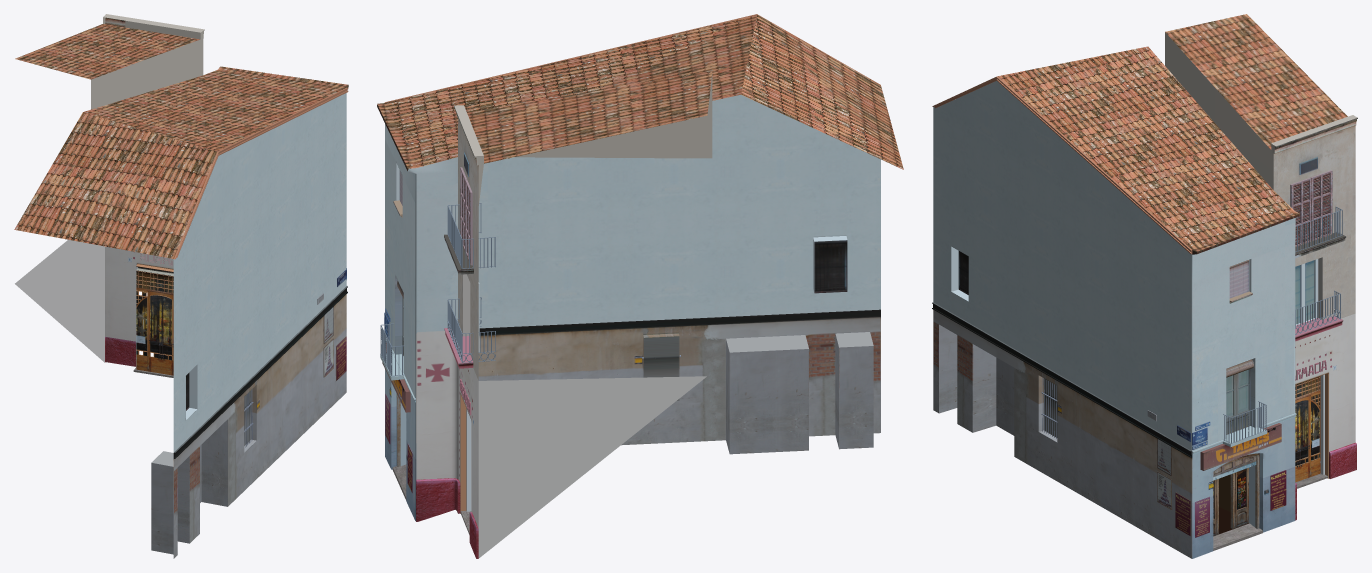
Rendered from farmacia.fbx.
3 views of the same model, side by side, from view 1: azimuth 30°, elevation 25°; view 2: azimuth 150°, elevation 25°; view 3: azimuth 270°, elevation 25° (orthographic). The views are drawn at different scales.
Visible parts, largest first — view 1: polySurface720, polySurface721; view 2: polySurface720; view 3: polySurface720, polySurface721, polySurface935.
Part boxes in pixels (<box>): polySurface720: <box>14,14,348,558</box>; polySurface721: <box>136,270,173,375</box>; polySurface720: <box>377,14,903,558</box>; polySurface720: <box>932,14,1357,558</box>; polySurface721: <box>1295,376,1320,482</box>; polySurface935: <box>1213,507,1262,550</box>.
Size of the model in its own units: 1459 by 1374 by 1344.
